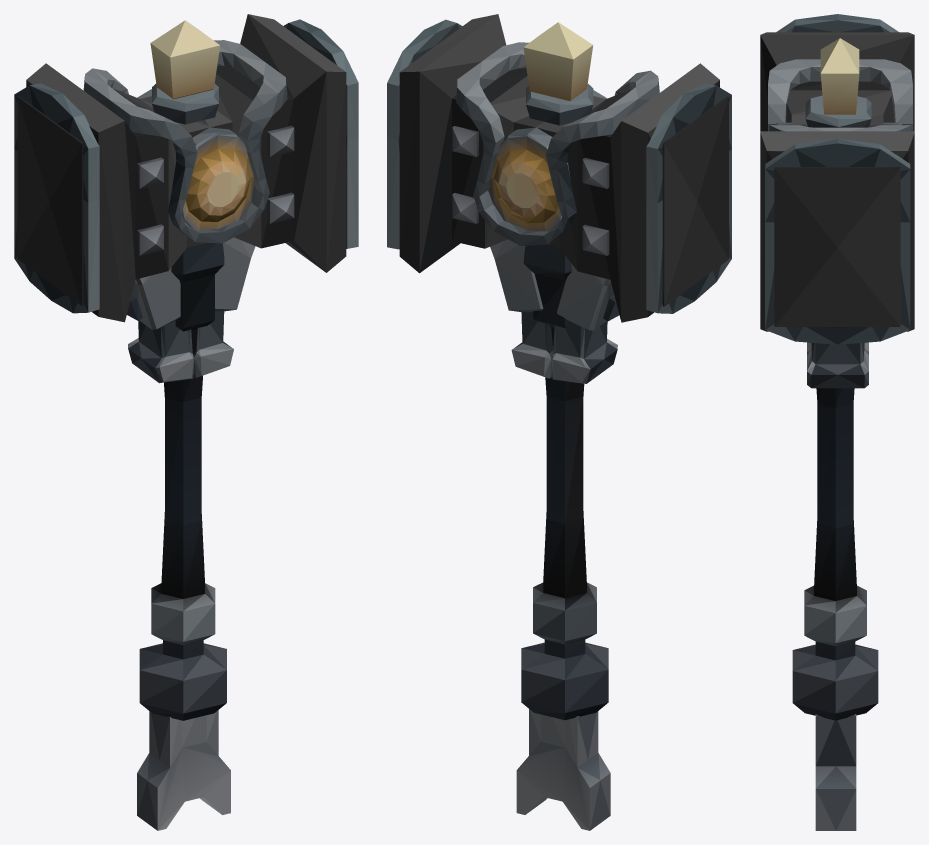
File: weapon_hammer_silver_4.fbx
3 views of the same model, side by side, from view 1: azimuth 30°, elevation 25°; view 2: azimuth 150°, elevation 25°; view 3: azimuth 270°, elevation 25° (orthographic). The views are drawn at different scales.
Visible parts, largest first — view 1: weapon_hammer_silver_4; view 2: weapon_hammer_silver_4; view 3: weapon_hammer_silver_4.
Boxes of the visible parts, left/top/right/bottom form: weapon_hammer_silver_4: left=14, top=14, right=358, bottom=830; weapon_hammer_silver_4: left=387, top=14, right=731, bottom=830; weapon_hammer_silver_4: left=760, top=14, right=914, bottom=830.
Bounding box in the file's own units: 1.08 × 2.98 × 0.5371.
